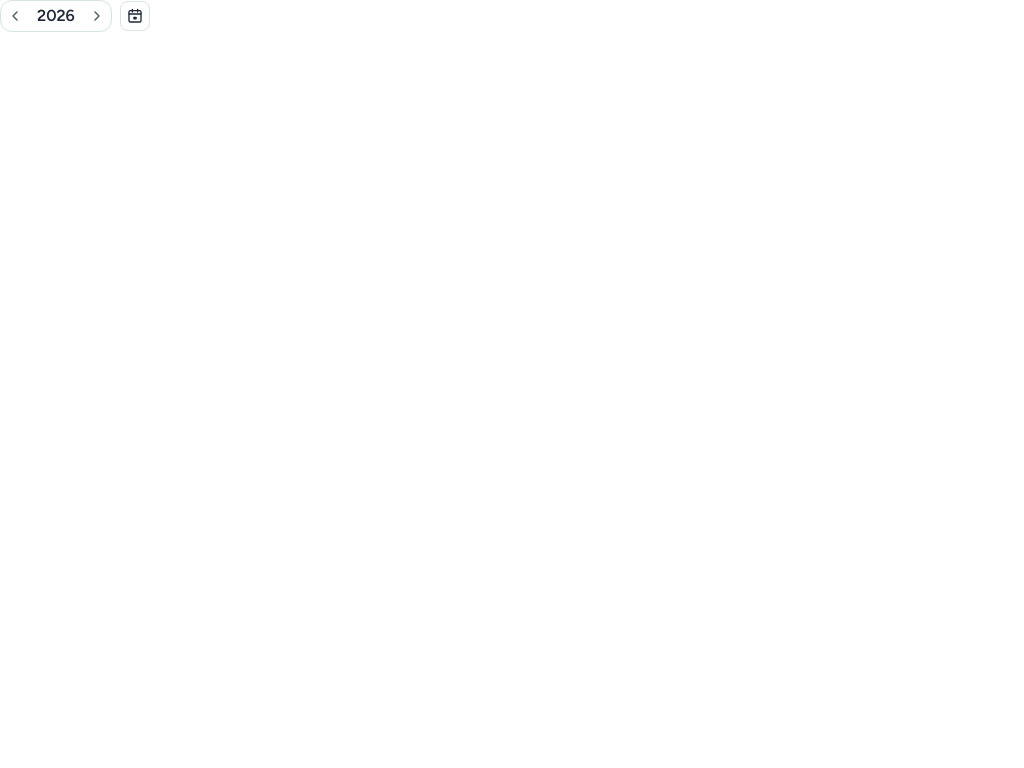
DateStepper › year jump sheet › the range stepper pages a whole 12-year block at a time
Click the button "2026".
click(56, 16)  # box [29,4,83,28]
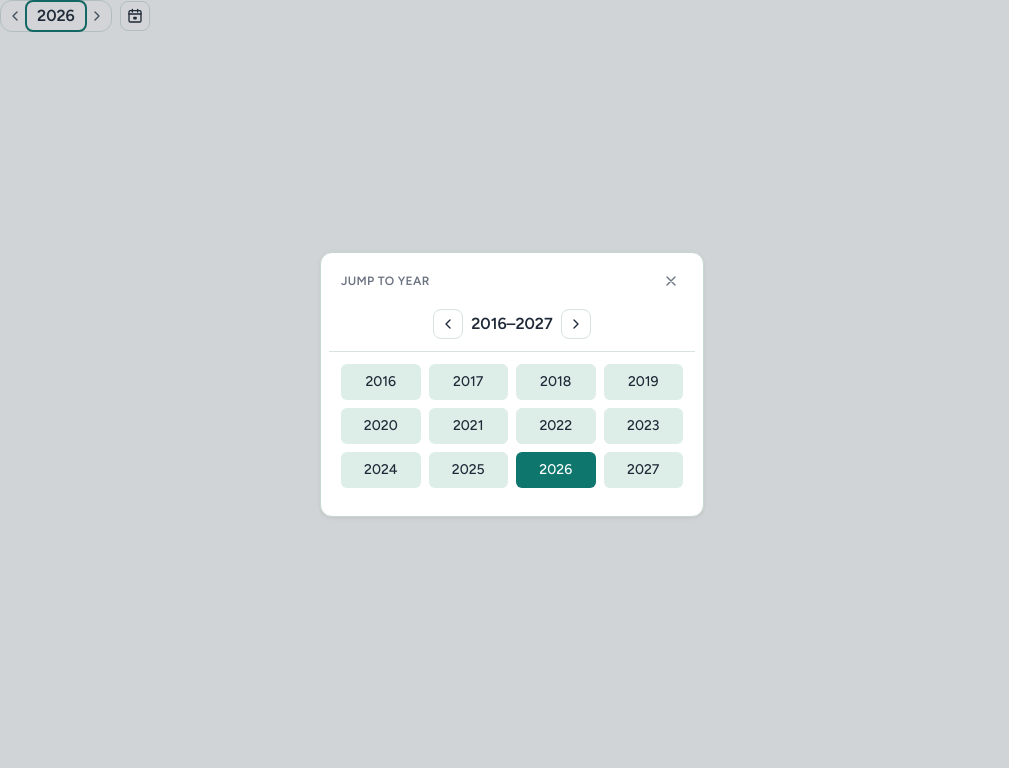
Click the button named "Next years".
click(576, 324)  # box [561,308,591,338]
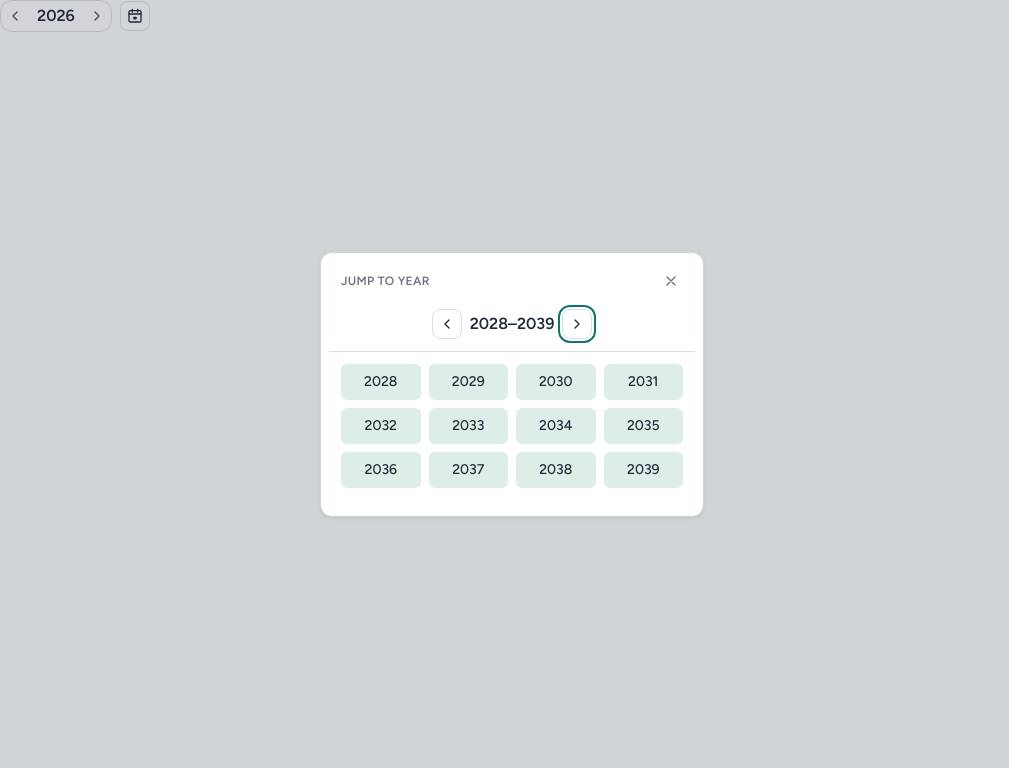
Result: the text "–" no longer shows "2016–2027"
